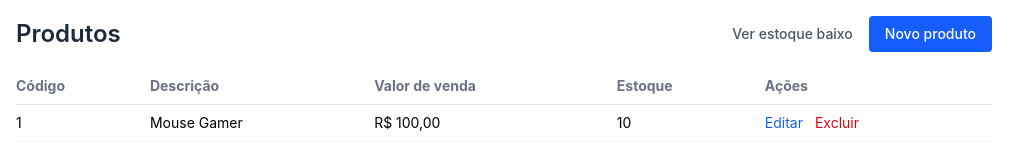
ProdutosPage › remove o produto da lista após excluir com confirmação
Expected: the text "Mouse Gamer" is shown, [150, 104, 374, 142]
Click the button "Excluir" at x=837, y=123, box [815, 113, 859, 133]
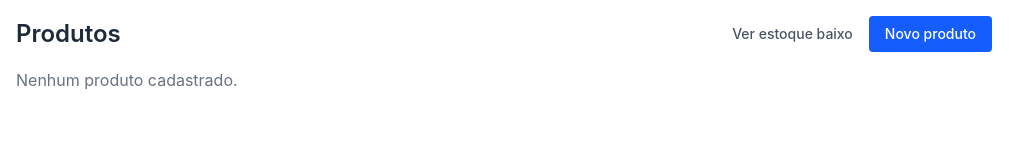
Result: the text "Mouse Gamer" is gone
